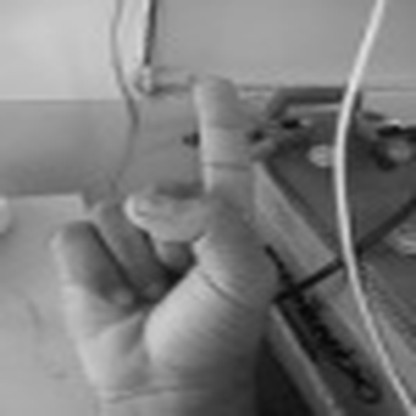d: (44, 70, 270, 414)
